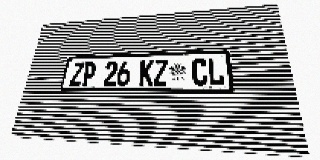2: (103, 61, 118, 86)
6: (116, 61, 131, 86)
C: (192, 58, 208, 86)
K: (139, 60, 154, 86)
L: (207, 57, 225, 86)
P: (81, 62, 97, 86)
Z: (153, 59, 168, 86), (69, 62, 85, 86)
